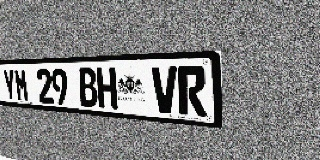2: (36, 68, 54, 104)
9: (51, 68, 69, 105)
B: (78, 68, 98, 108)
H: (96, 67, 118, 109)
M: (14, 69, 29, 102)
R: (178, 66, 207, 117)
V: (151, 66, 178, 114)
Y: (2, 69, 17, 101)
